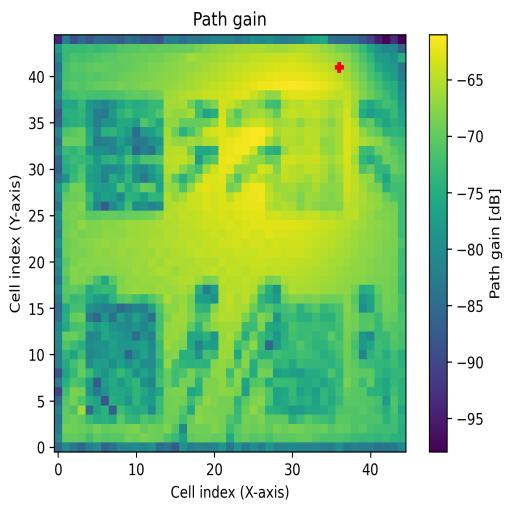Concrete: (266, 99, 344, 212)
Glass: (86, 99, 164, 210)
Metal: (274, 303, 343, 403)
Wood: (87, 303, 156, 416)
